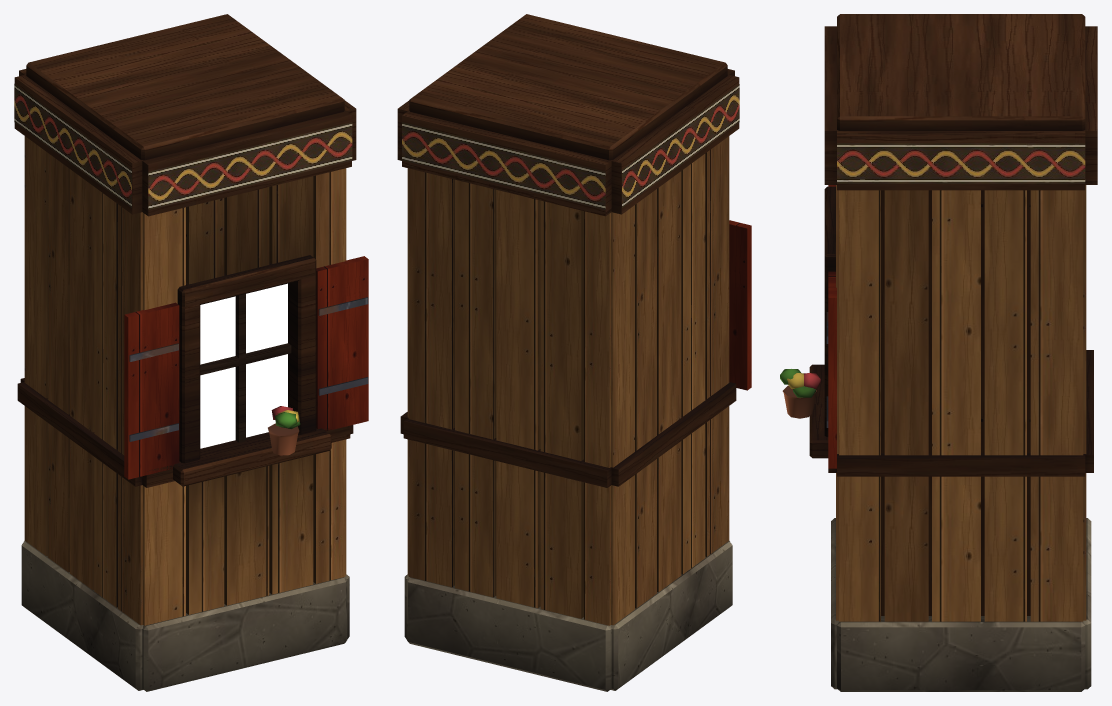
Rendered from interior_wall_timber_window.glb.
The picture shows the model from 3 angles, left to right: view 1: azimuth 30°, elevation 25°; view 2: azimuth 150°, elevation 25°; view 3: azimuth 270°, elevation 25°; orthographic projection. The views are drawn at different scales.
Visible parts, largest first — view 1: interior_wall_timber_window; view 2: interior_wall_timber_window; view 3: interior_wall_timber_window.
Boxes of the visible parts, left/top/right/bottom form: interior_wall_timber_window: left=14, top=14, right=368, bottom=691; interior_wall_timber_window: left=397, top=14, right=751, bottom=691; interior_wall_timber_window: left=780, top=14, right=1097, bottom=691.
Size of the model in its own units: 1.18 by 2.55 by 1.28.
7 materials, 5 textured.
